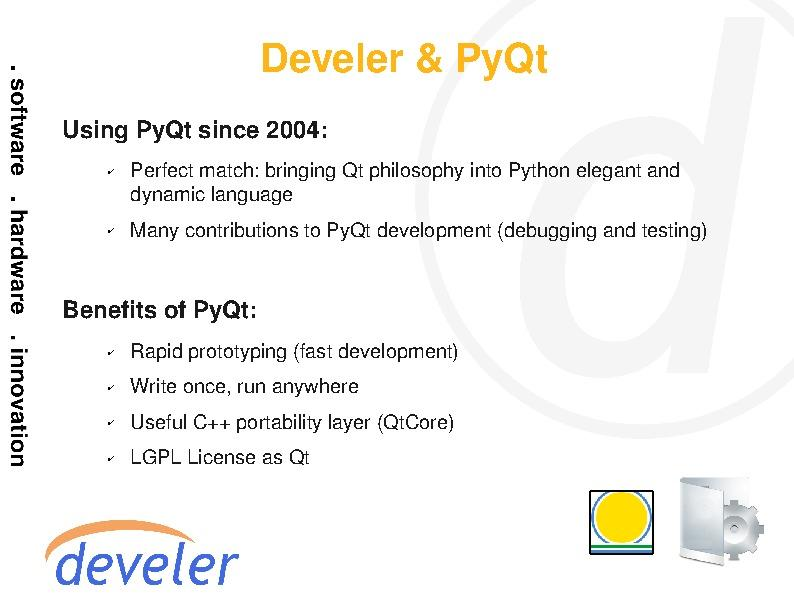paragraph: (51, 148, 794, 267), (100, 324, 615, 482)
subtitle: (59, 110, 339, 149), (58, 291, 266, 326)
title: (246, 28, 559, 90)
